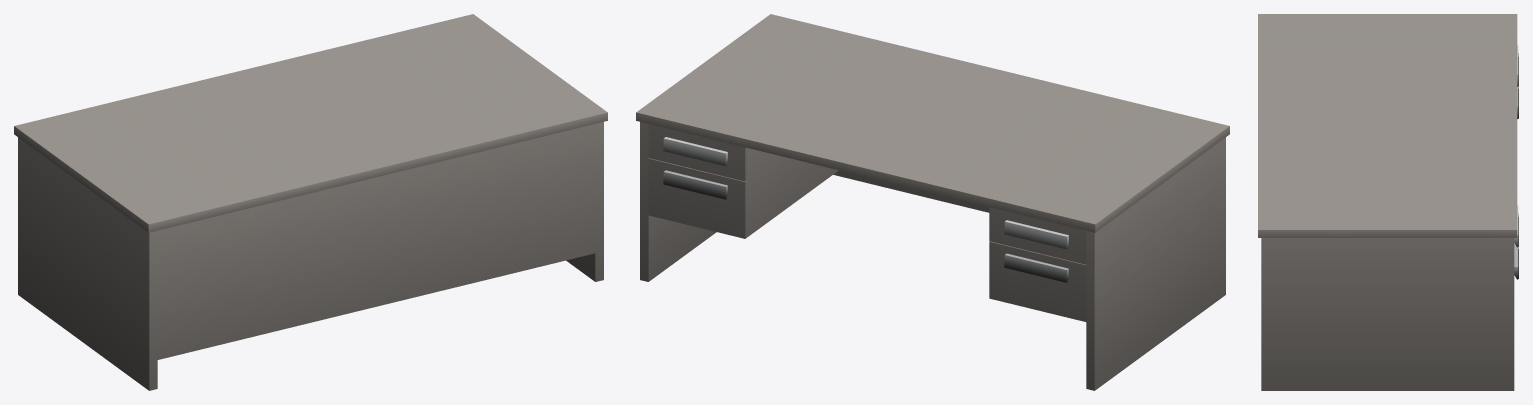
Rendered from Table_OfficeDesk3.fbx.
3 views of the same model, side by side, from view 1: azimuth 30°, elevation 25°; view 2: azimuth 150°, elevation 25°; view 3: azimuth 270°, elevation 25° (orthographic). The views are drawn at different scales.
Visible parts, largest first — view 1: Table_OfficeDesk3; view 2: Table_OfficeDesk3; view 3: Table_OfficeDesk3.
Part boxes in pixels (x1=…): Table_OfficeDesk3: x1=14, y1=14, x2=607, y2=390; Table_OfficeDesk3: x1=636, y1=14, x2=1229, y2=390; Table_OfficeDesk3: x1=1258, y1=14, x2=1518, y2=390.
Size of the model in its own units: 210 by 73.44 by 107.
